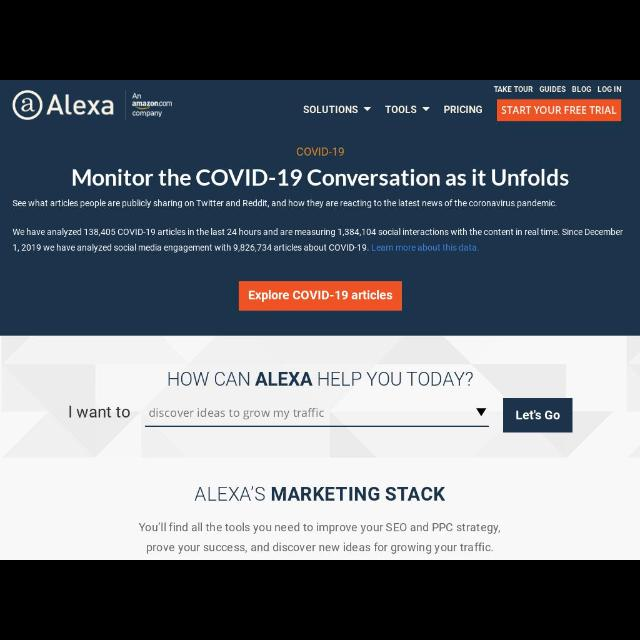icon: (475, 406, 489, 418), (420, 102, 432, 114), (363, 103, 373, 113)
image: (8, 86, 175, 122)
spinner: (144, 403, 490, 427), (297, 99, 373, 118), (382, 100, 432, 118)
text: (12, 226, 624, 254), (138, 520, 502, 554), (70, 167, 572, 189), (11, 197, 559, 209), (166, 370, 476, 390), (192, 484, 448, 504), (147, 407, 327, 421), (247, 289, 395, 303), (501, 105, 617, 115), (68, 404, 132, 420), (514, 406, 562, 424), (302, 100, 360, 114), (294, 145, 348, 157), (442, 104, 483, 115), (494, 84, 534, 94), (385, 105, 417, 114), (538, 85, 568, 94), (596, 85, 622, 93), (571, 85, 593, 93)
textbutton: (238, 282, 402, 310), (497, 99, 621, 121), (503, 398, 573, 432)
toolbar: (1, 80, 639, 130)
